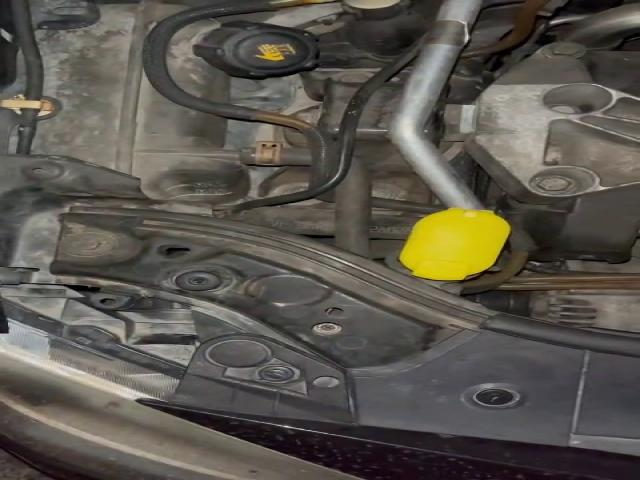antifreeze_tank: (28, 0, 253, 200), (166, 19, 318, 105)
